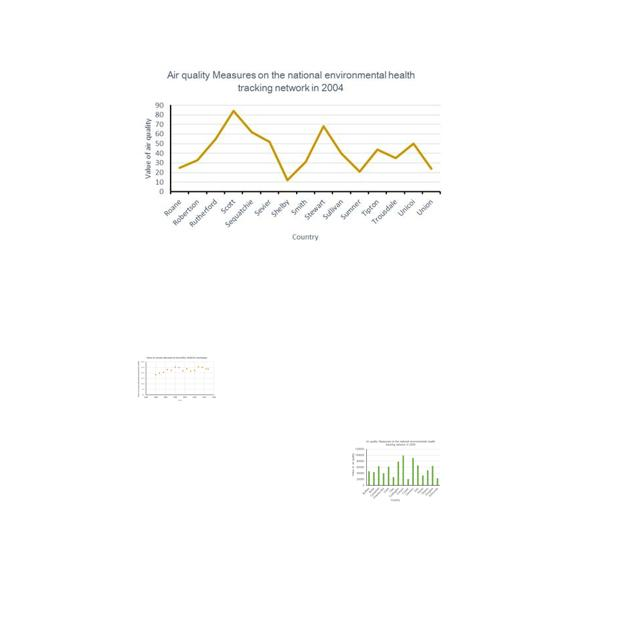Graph: (140, 65, 446, 249), (349, 439, 442, 503), (136, 355, 218, 404)
